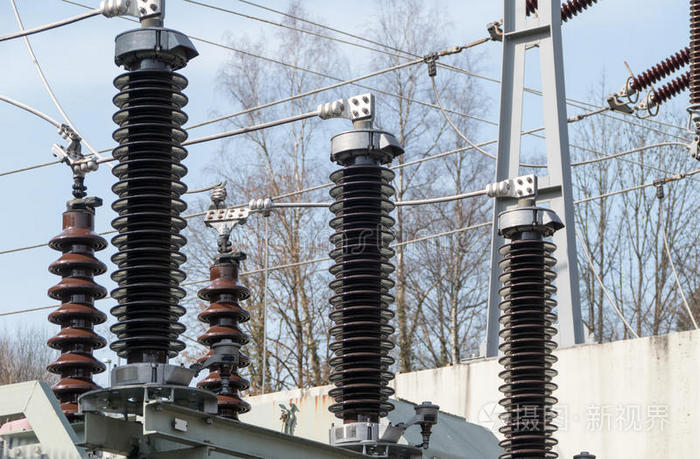insulator: (109, 69, 190, 352), (328, 166, 400, 423), (490, 236, 561, 459), (46, 223, 98, 401), (195, 270, 256, 421), (630, 47, 687, 89), (688, 1, 700, 109), (654, 70, 687, 108), (559, 1, 595, 29)
